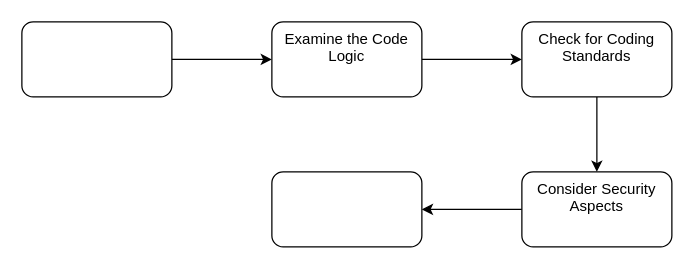
Some shapes in this 694 by 269 pixel diagram are drawn without their labels. The shapes that lost their labels are listed below. From the top down, each one's centre as x and y in pixels, then its label:
[96,59]: Understand the Requirements
[346,209]: Engage in Discussion
